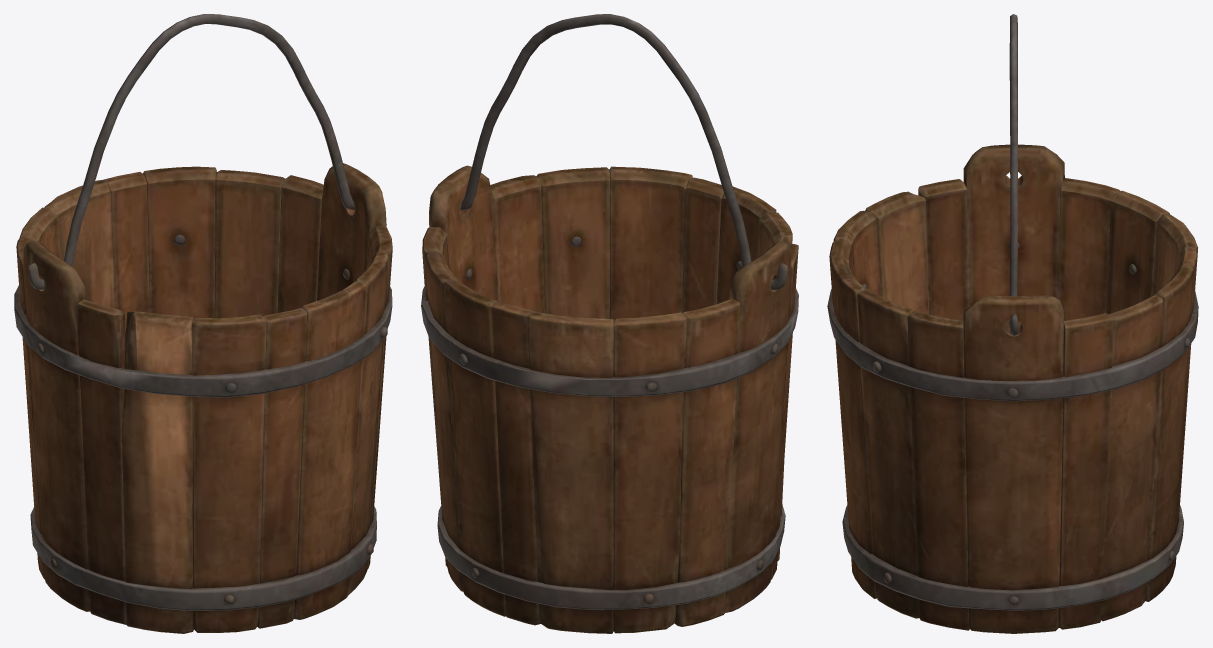
Rendered from wooden_bucket_01.glb.
3 views of the same model, side by side, from view 1: azimuth 30°, elevation 25°; view 2: azimuth 150°, elevation 25°; view 3: azimuth 270°, elevation 25° (orthographic).
Visible parts, largest first — view 1: wooden_bucket_01; view 2: wooden_bucket_01; view 3: wooden_bucket_01.
Boxes of the visible parts, <box> form: wooden_bucket_01: <box>14,14,392,633</box>; wooden_bucket_01: <box>421,14,798,633</box>; wooden_bucket_01: <box>827,14,1198,633</box>.
Bounding box in the file's own units: 0.367 × 0.5499 × 0.3422.
1 material, 1 textured.
